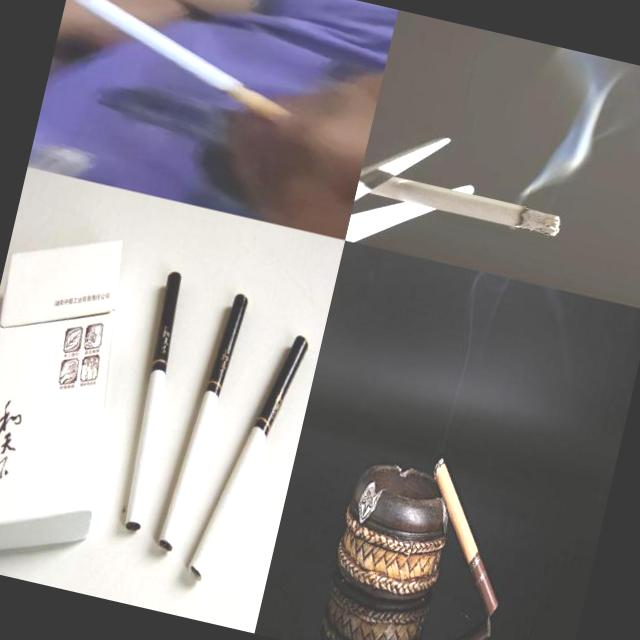cigarette: (184, 322, 310, 594), (59, 0, 312, 130), (155, 287, 250, 557), (110, 270, 198, 533), (403, 455, 528, 618), (356, 167, 566, 240), (414, 601, 495, 640)
